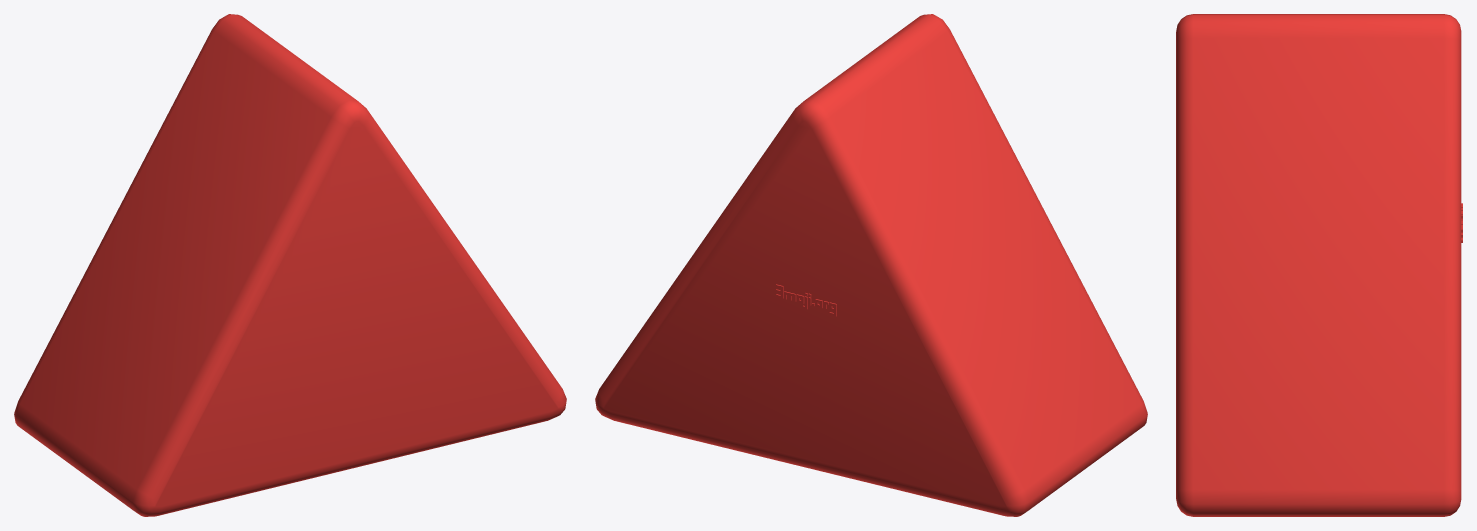
Rendered from red_triangle_pointed_up.glb.
3 views of the same model, side by side, from view 1: azimuth 30°, elevation 25°; view 2: azimuth 150°, elevation 25°; view 3: azimuth 270°, elevation 25° (orthographic). The views are drawn at different scales.
Parts seen in each view (by area): view 1: Cube.6669; view 2: Cube.6669; view 3: Cube.6669.
Part boxes in pixels (x1,y1,x2,y2): Cube.6669: [14, 14, 566, 516]; Cube.6669: [595, 14, 1147, 516]; Cube.6669: [1176, 14, 1462, 516].
Size of the model in its own units: 1.88 by 1.53 by 1.01.
Materials: 1 (1 with a texture image).
